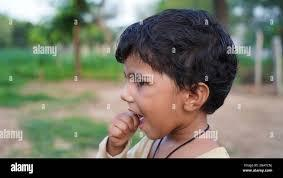Human: (95, 6, 240, 176)
